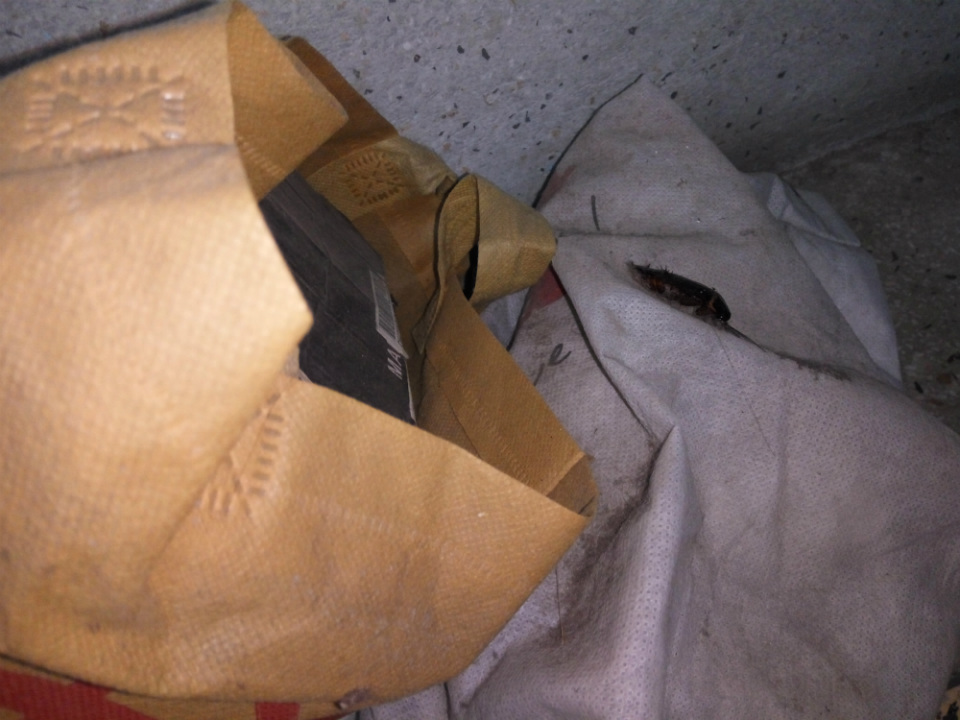cockroach: (582, 243, 761, 334)
